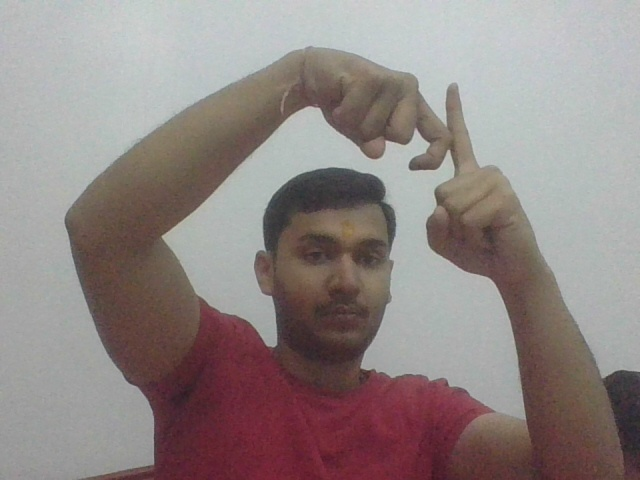K: (389, 63, 502, 183)
